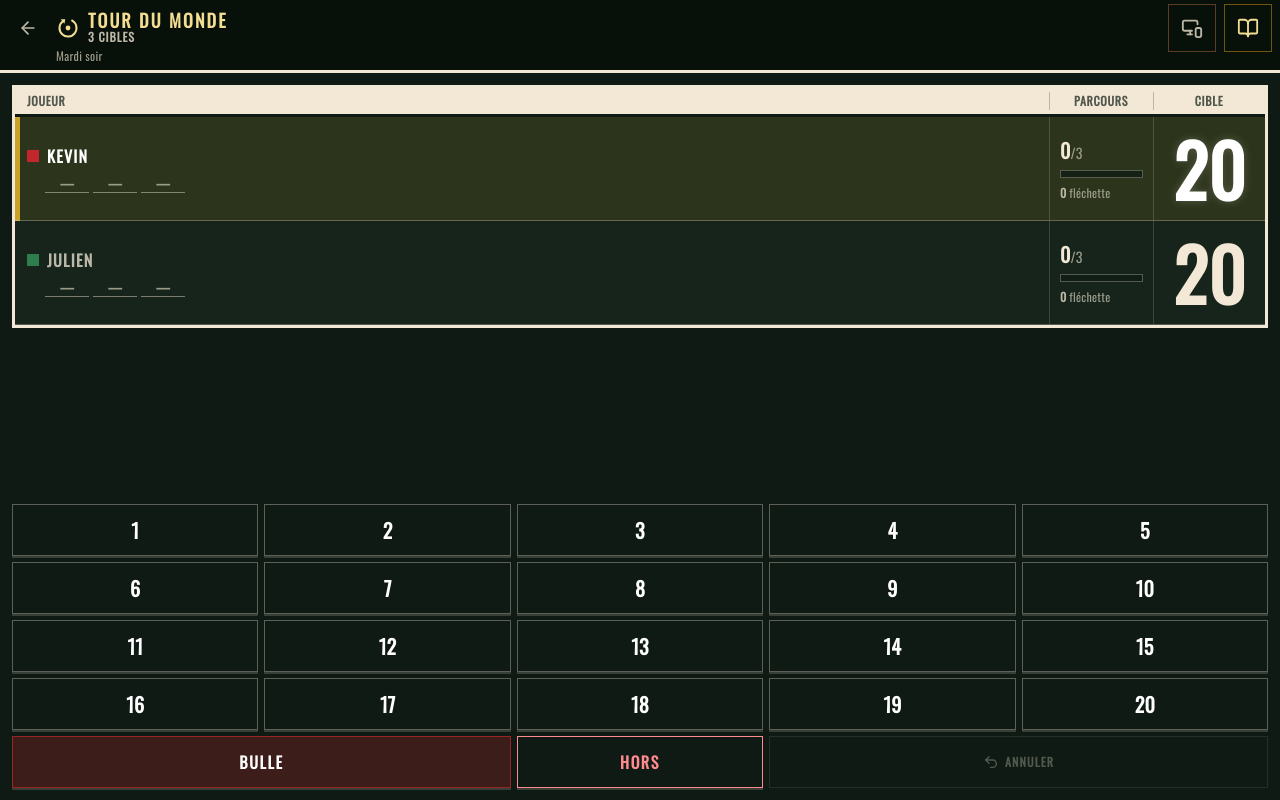
Pavé Tour du monde › les cases de volée et Annuler s’écrivent sans « S »
The image size is (1280, 800).
Click the button "16". click: (135, 704)
box: [12,678,258,730]
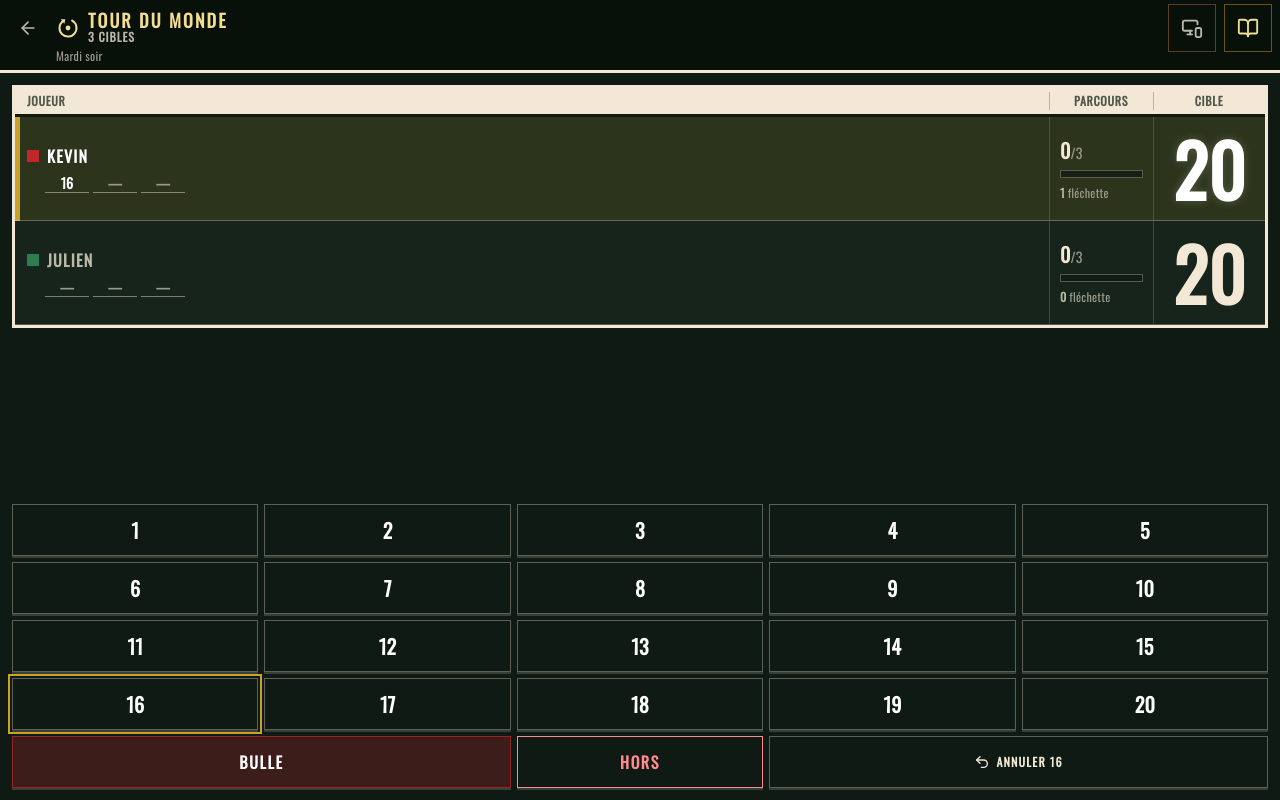
Expected: the element named "Volée en cours" does not show "S16", [45,176,185,193]
Now the button with aria-label "Annuler 16 de Kevin" reads "Annuler 16", box [769,736,1268,788]
Now the element named "Volée en cours" reads "16 — —", box [45,176,185,193]
